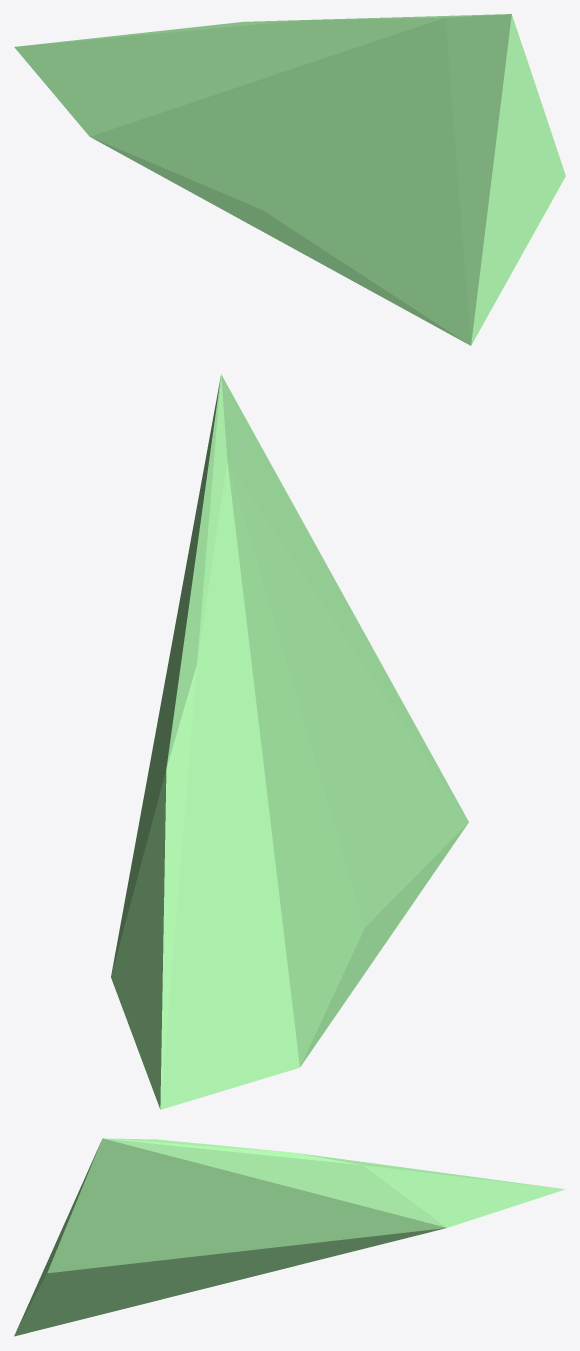
File: dualpanda_Panda_rightArm_link5_respondable_coll_5.dae
3 views of the same model, one above another, from view 1: azimuth 30°, elevation 25°; view 2: azimuth 150°, elevation 25°; view 3: azimuth 270°, elevation 25° (orthographic). The views are drawn at different scales.
Visible parts, largest first — view 1: node; view 2: node; view 3: node.
Part boxes in pixels (x1,y1,x2,y2): node: (14, 14, 565, 345); node: (111, 374, 468, 1109); node: (14, 1138, 565, 1336).
Bounding box in the file's own units: 0.035 × 0.0356 × 0.0751.
